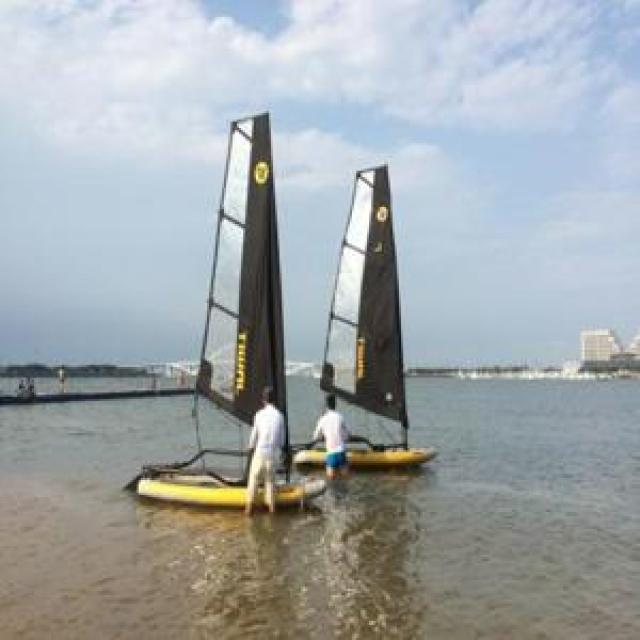sailboat: (132, 103, 323, 504), (299, 158, 453, 469)
